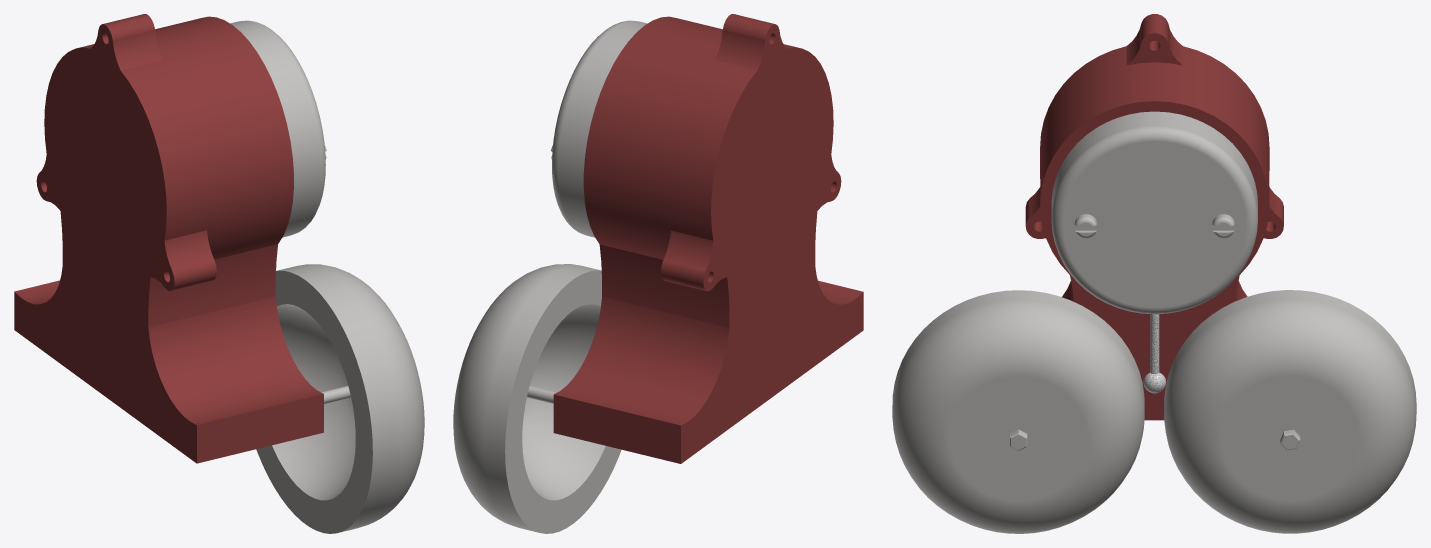
File: campainha2.glb
3 views of the same model, side by side, from view 1: azimuth 30°, elevation 25°; view 2: azimuth 150°, elevation 25°; view 3: azimuth 270°, elevation 25° (orthographic). The views are drawn at different scales.
Visible parts, largest first — view 1: Sólido1 (×3); view 2: Sólido1 (×3); view 3: Sólido1 (×4).
Boxes of the visible parts, x1,y1,x2,y2 form: Sólido1 (×3): (14,14,424,533); Sólido1 (×3): (453,14,863,533); Sólido1 (×4): (892,14,1416,533).
Bounding box in the file's own units: 0.099 × 0.2147 × 0.2284.
Materials: 4 (1 with a texture image).
